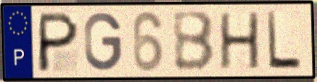6: (131, 9, 168, 74)
B: (170, 9, 216, 73)
G: (83, 11, 124, 73)
H: (218, 10, 262, 71)
L: (265, 9, 304, 71)
P: (35, 10, 81, 74)
